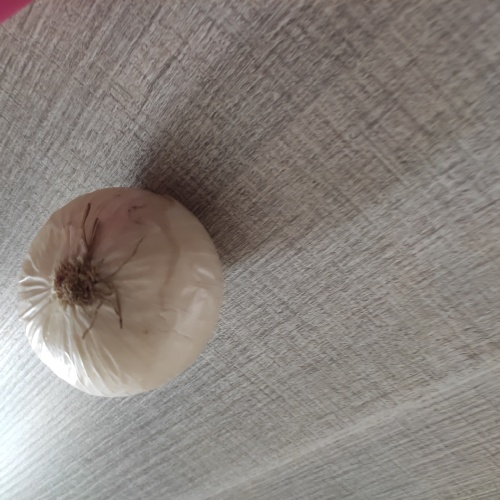cipolla: (9, 182, 230, 408)
